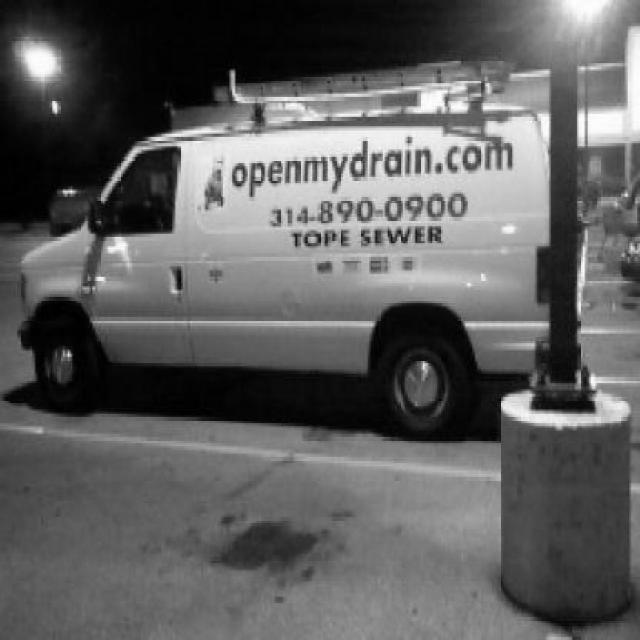Van: (16, 60, 552, 441)
